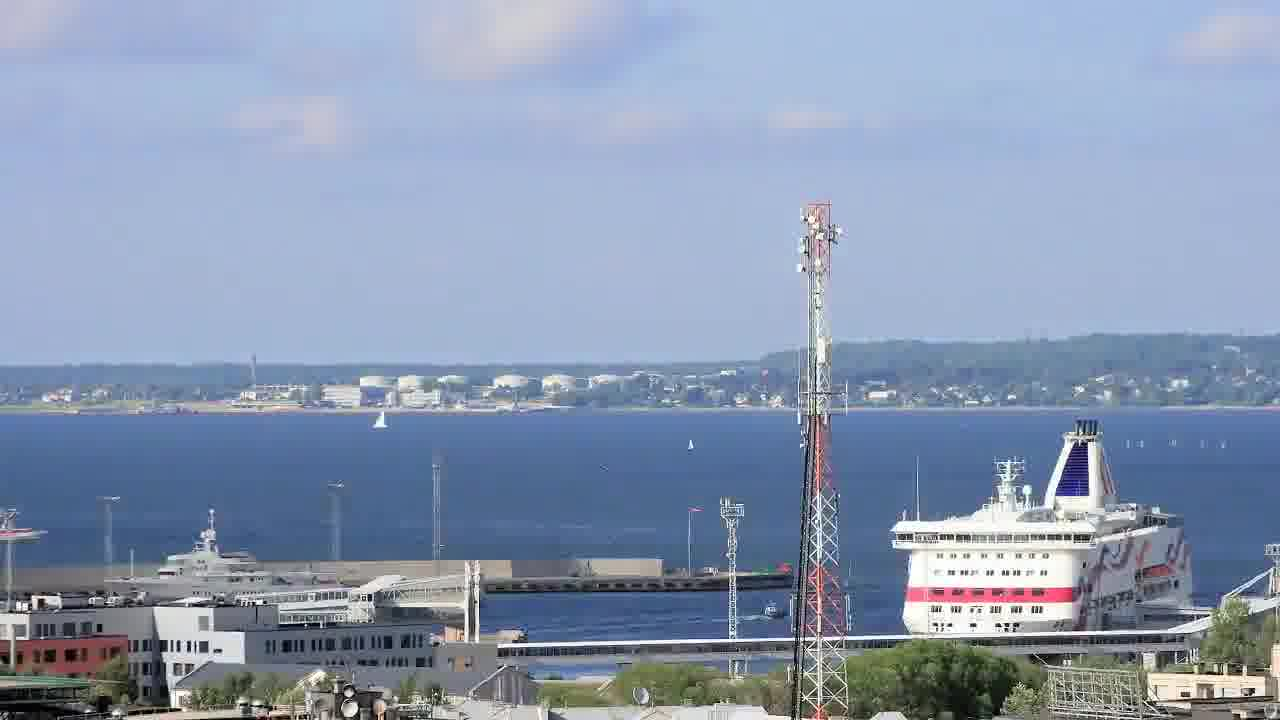type-0: (745, 577, 790, 640)
type-2: (362, 391, 405, 445)
type-3: (868, 415, 1225, 638), (84, 511, 353, 609)
